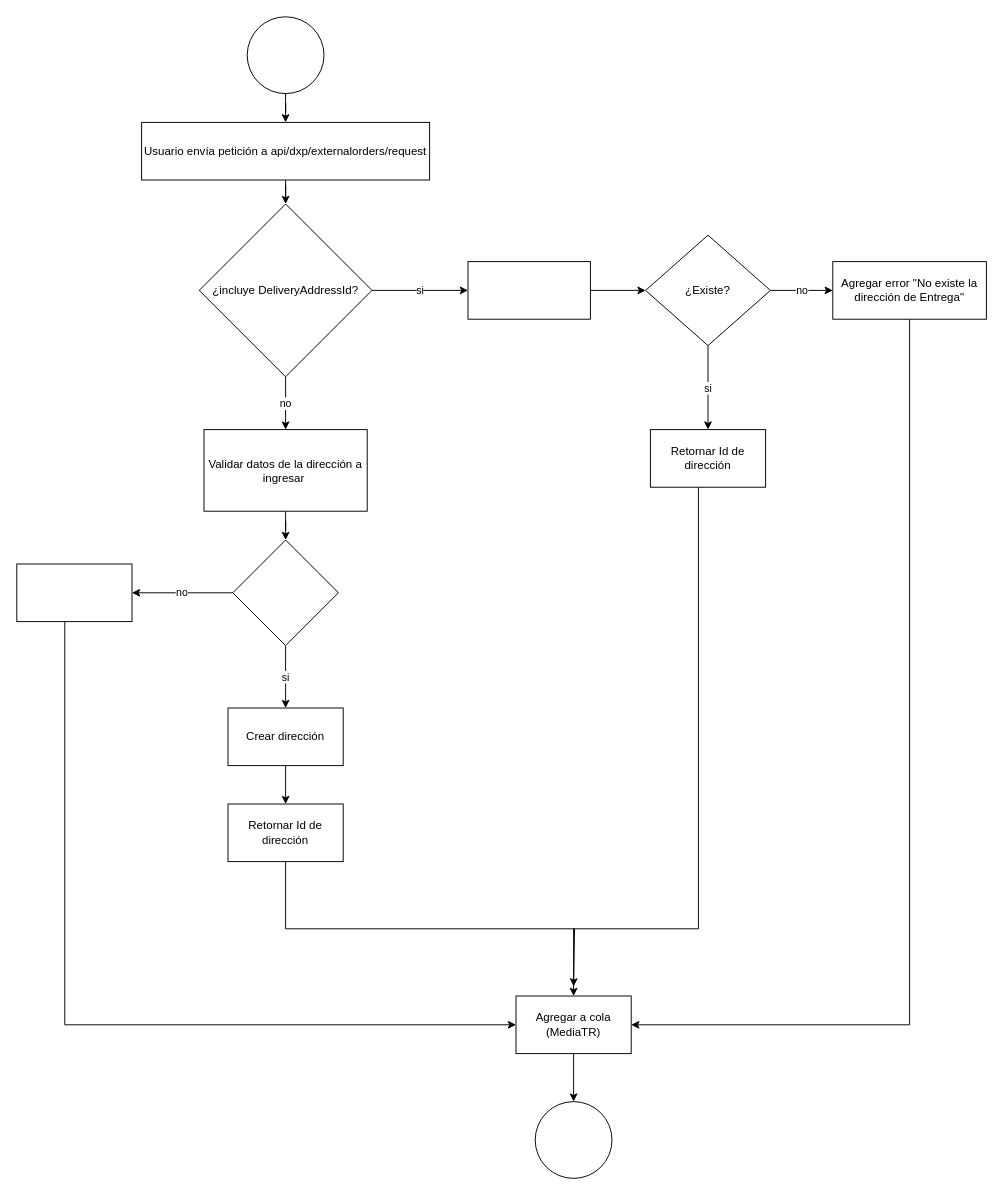
Image size: 1003x1195. Some labels were removed from this diagram. The centre of each missing label's shape, as x and y in pixels:
"Agregar errores" goes at (x=74, y=592).
"Fin" goes at (x=573, y=1139).
"Inicio" goes at (x=285, y=55).
"Validar que existan en postgres y SAP" goes at (x=528, y=290).
"¿Valores válidos?" goes at (x=285, y=592).
